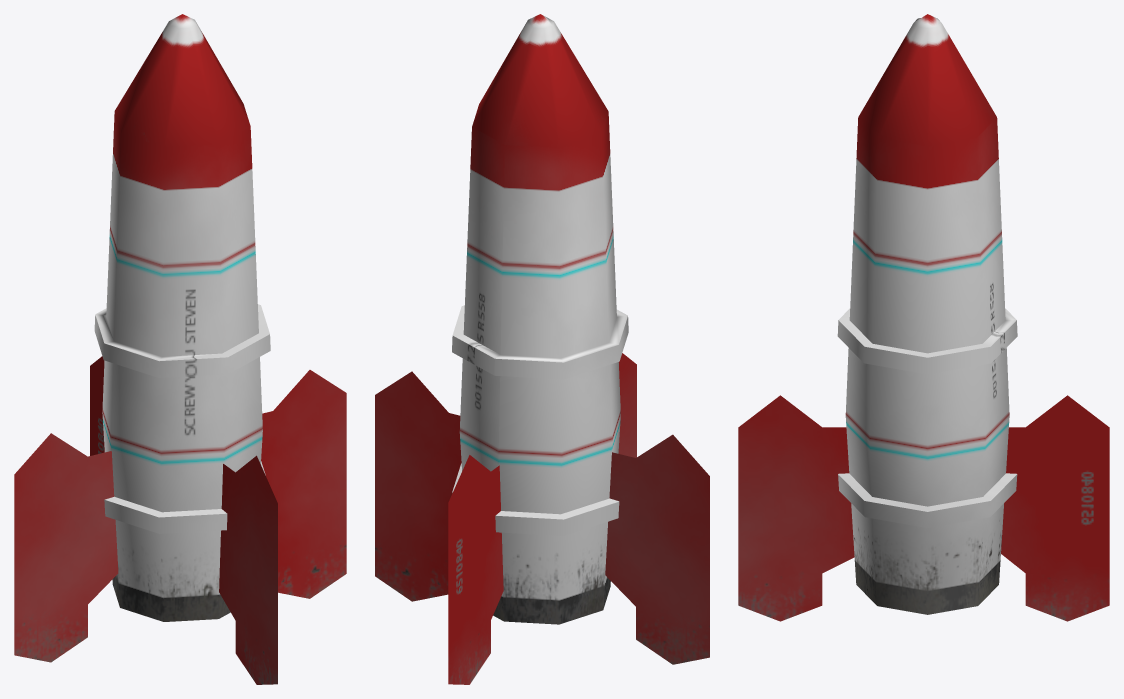
Rendered from Missle.fbx.
The picture shows the model from 3 angles, left to right: view 1: azimuth 30°, elevation 25°; view 2: azimuth 150°, elevation 25°; view 3: azimuth 270°, elevation 25°; orthographic projection.
Parts seen in each view (by area): view 1: polySurface2; view 2: polySurface2; view 3: polySurface2.
Boxes of the visible parts, x1,y1,x2,y2 form: polySurface2: (14, 14, 346, 684); polySurface2: (375, 14, 709, 684); polySurface2: (738, 14, 1109, 621).
Bounding box in the file's own units: 90.82 × 161 × 88.85.
